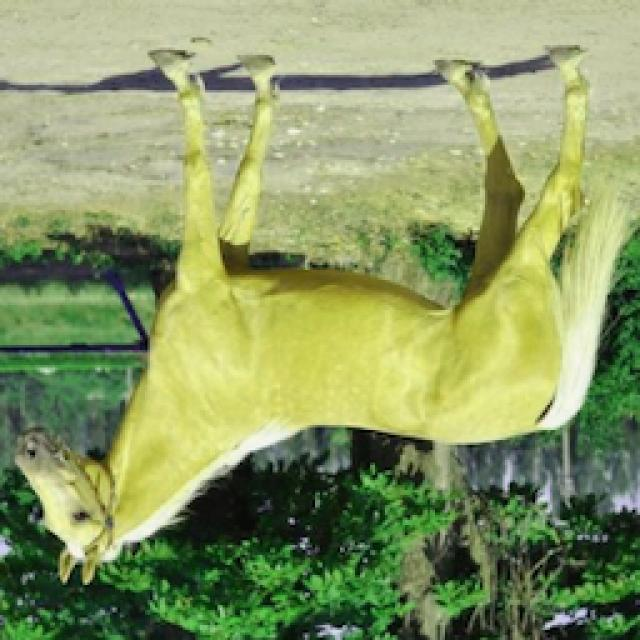Horse: (8, 40, 638, 592)
